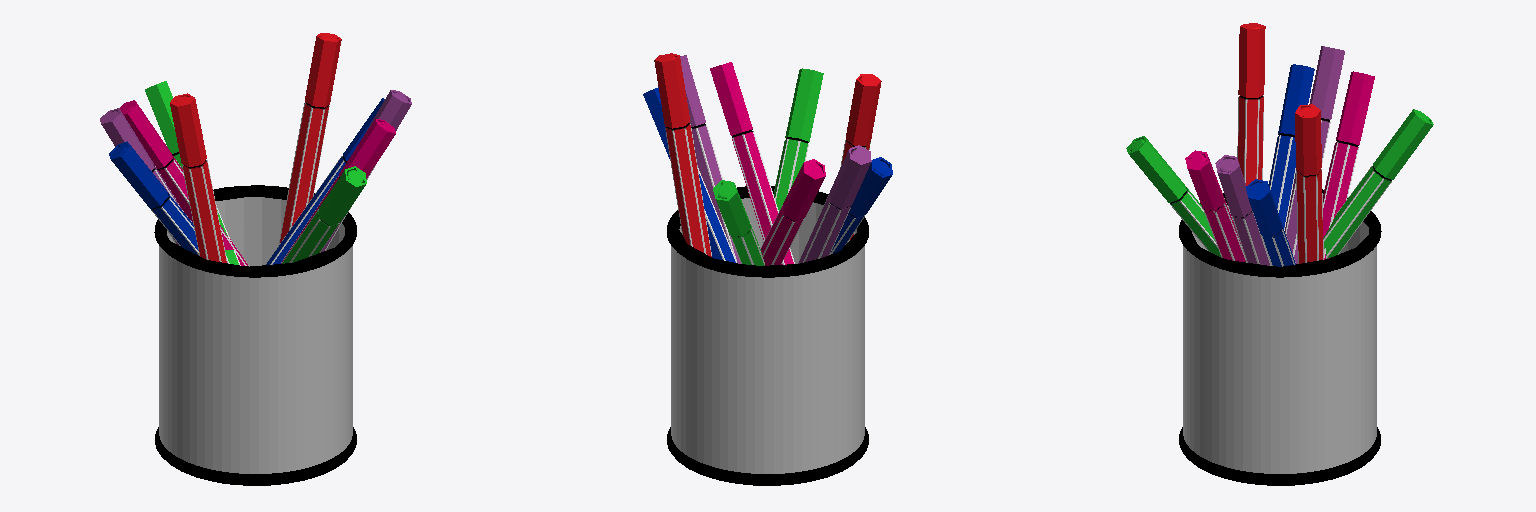
3 renders of one model, left to right at view 1: azimuth 30°, elevation 25°; view 2: azimuth 150°, elevation 25°; view 3: azimuth 270°, elevation 25°, orthographic.
Parts seen in each view (by area): view 1: HighRes; view 2: HighRes; view 3: HighRes.
Part boxes in pixels (x1,y1,x2,y2): HighRes: (100,33,411,485); HighRes: (643,53,892,485); HighRes: (1126,23,1433,485).
Size of the model in its own units: 3.2 by 4.28 by 3.16.
Materials: 7 (5 with a texture image).